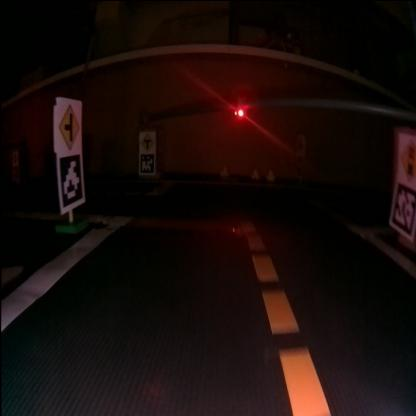Duckie: (266, 169, 274, 179), (252, 168, 258, 178), (220, 165, 226, 173)
Intersection sign: (58, 101, 80, 149), (140, 132, 154, 150)
QR code: (58, 152, 82, 206), (392, 182, 416, 232), (140, 152, 154, 172)
Signal sign: (400, 136, 416, 178)
Traffic light: (234, 107, 243, 115)
